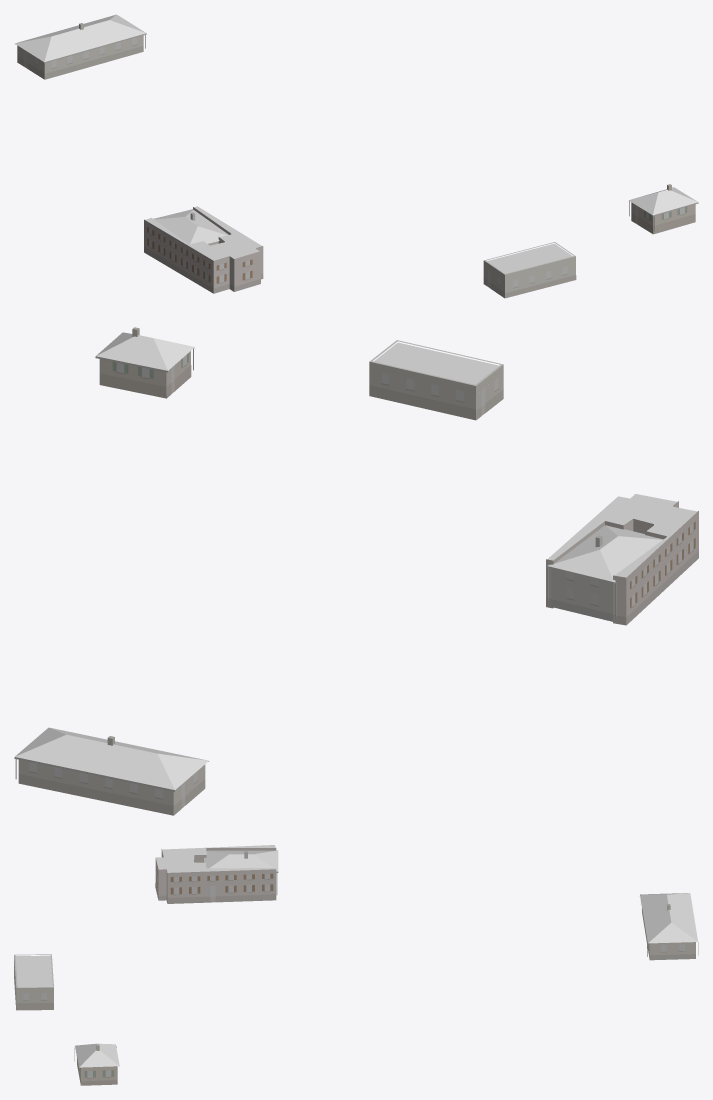
3 views of the same model, one above another, from view 1: azimuth 30°, elevation 25°; view 2: azimuth 150°, elevation 25°; view 3: azimuth 270°, elevation 25° (orthographic). The views are drawn at different scales.
Visible parts, largest first — view 1: bld; view 2: bld; view 3: bld.
Boxes of the visible parts, x1,y1,x2,y2 form: bld: (14, 14, 698, 298); bld: (14, 327, 698, 815); bld: (14, 845, 698, 1085).
Bounding box in the file's own units: 86.02 × 8.34 × 120.
